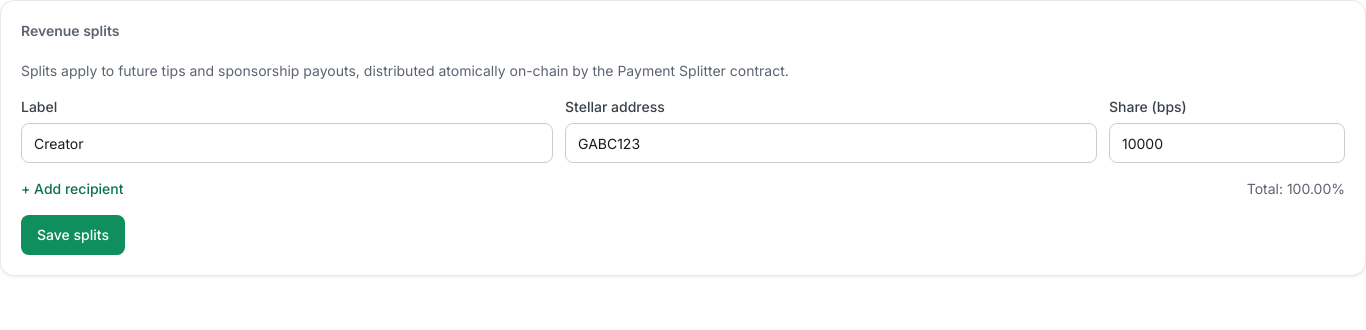
Test: SplitConfigForm › blocks saving when splits do not add up to 100%
Replace the text in the number field labelled "Share (bps)" with "5000" at x=1227, y=143, box [1109,123,1345,163]
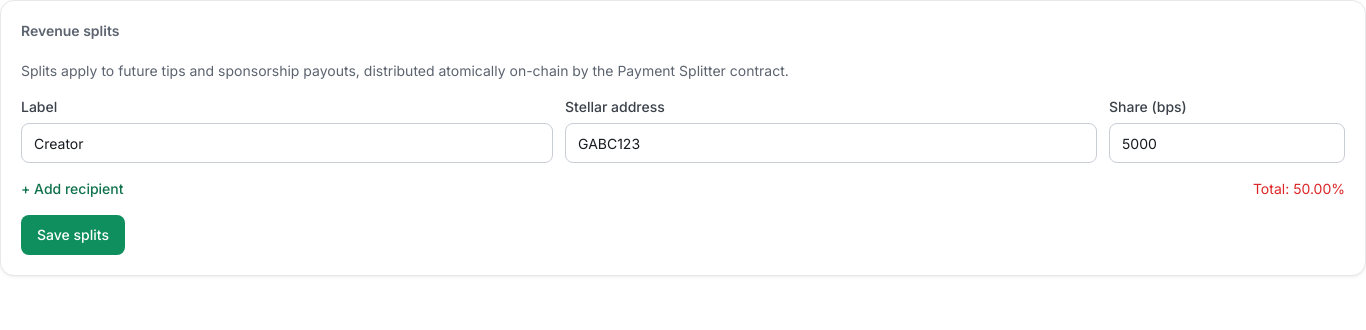
Click the button "Save splits" at x=73, y=235, box [21,215,125,255]
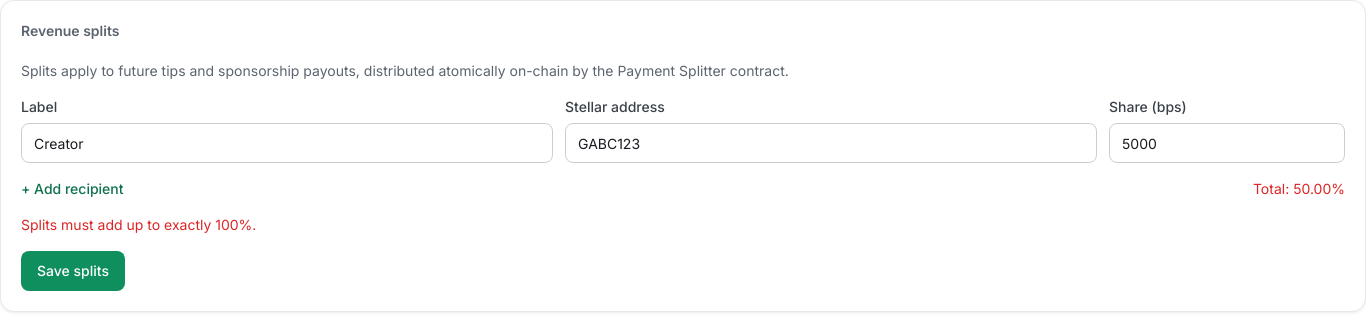
Now the text "Splits must add up to exactly 100%." is shown, box [21,216,256,233]
